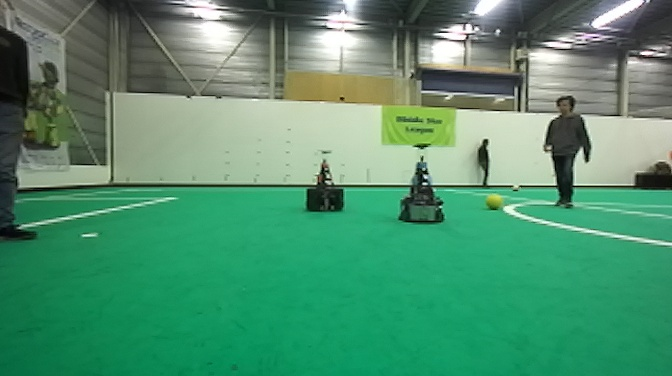ball: (484, 192, 504, 213), (509, 181, 523, 194)
human: (1, 1, 40, 243), (543, 92, 593, 212), (473, 133, 495, 189)
robot: (396, 141, 447, 225), (306, 148, 347, 212)
